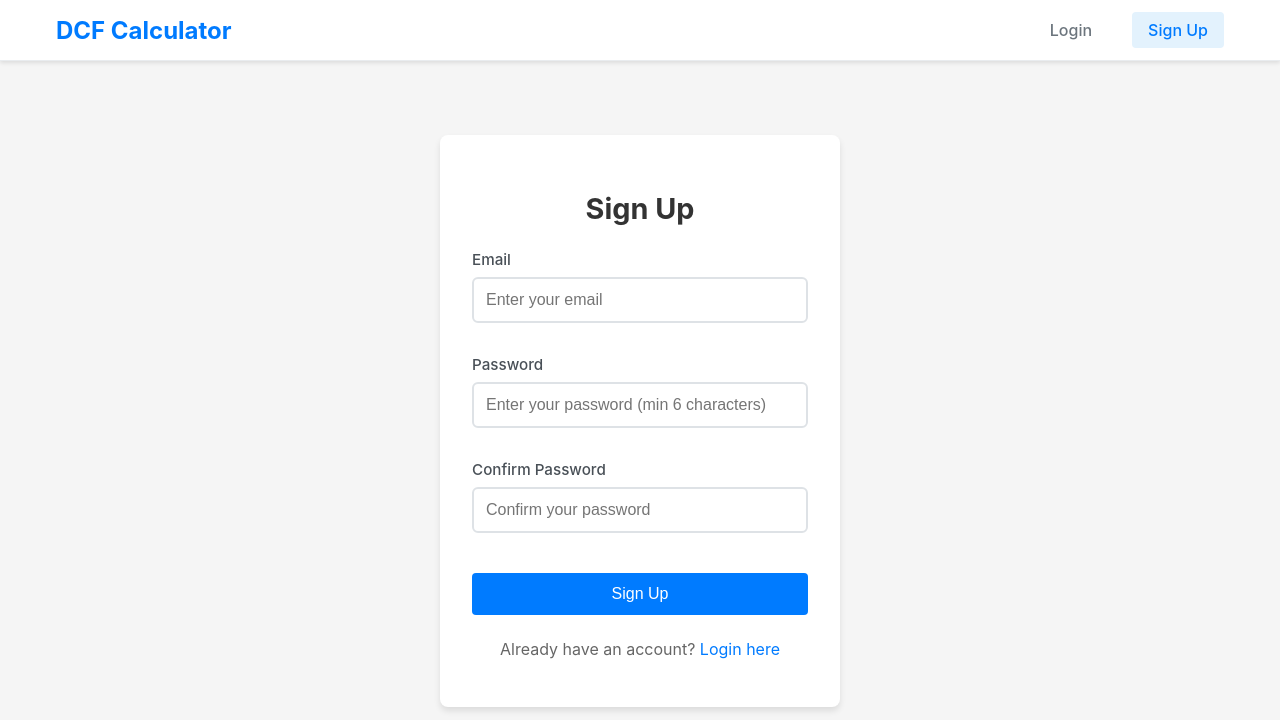
Test: Authentication Flow › User Registration › should show error when passwords do not match
Step 1. Type "test@example.com" into the field with test id "email-input" → [640, 300], box [472, 277, 808, 323]
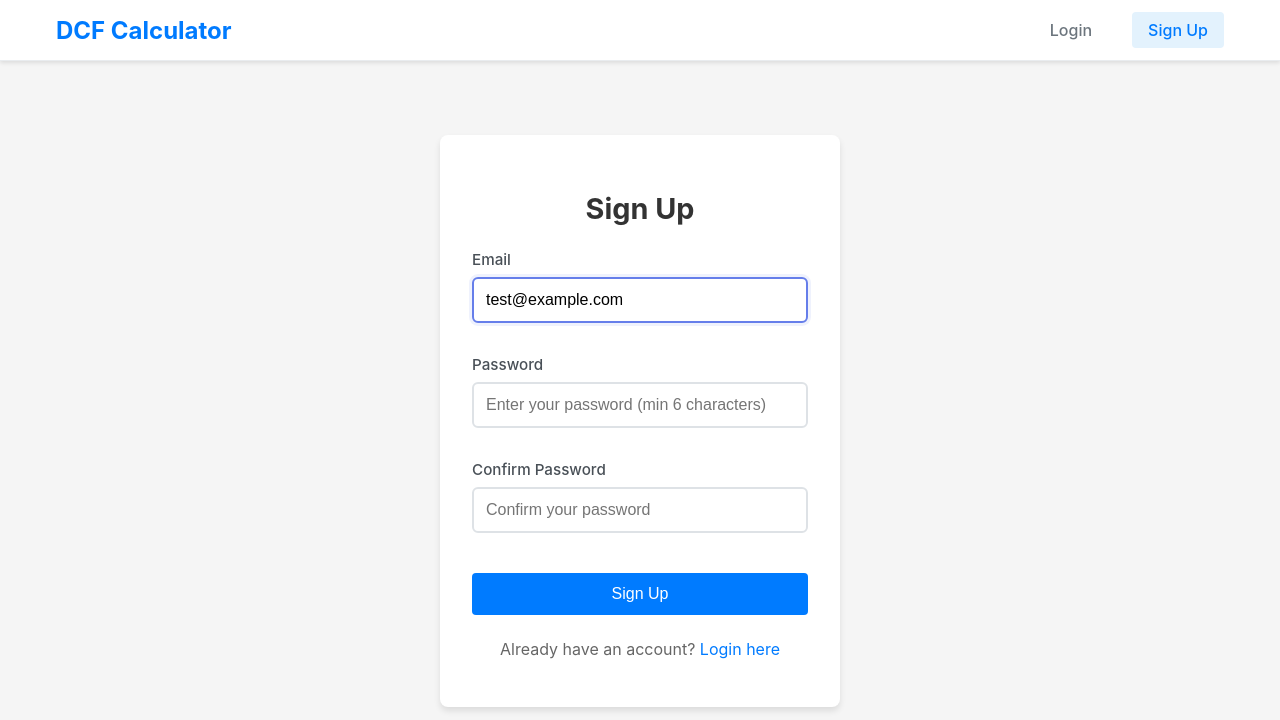
Step 2. Type "password123" into the password field with test id "password-input" → [640, 405], box [472, 382, 808, 428]
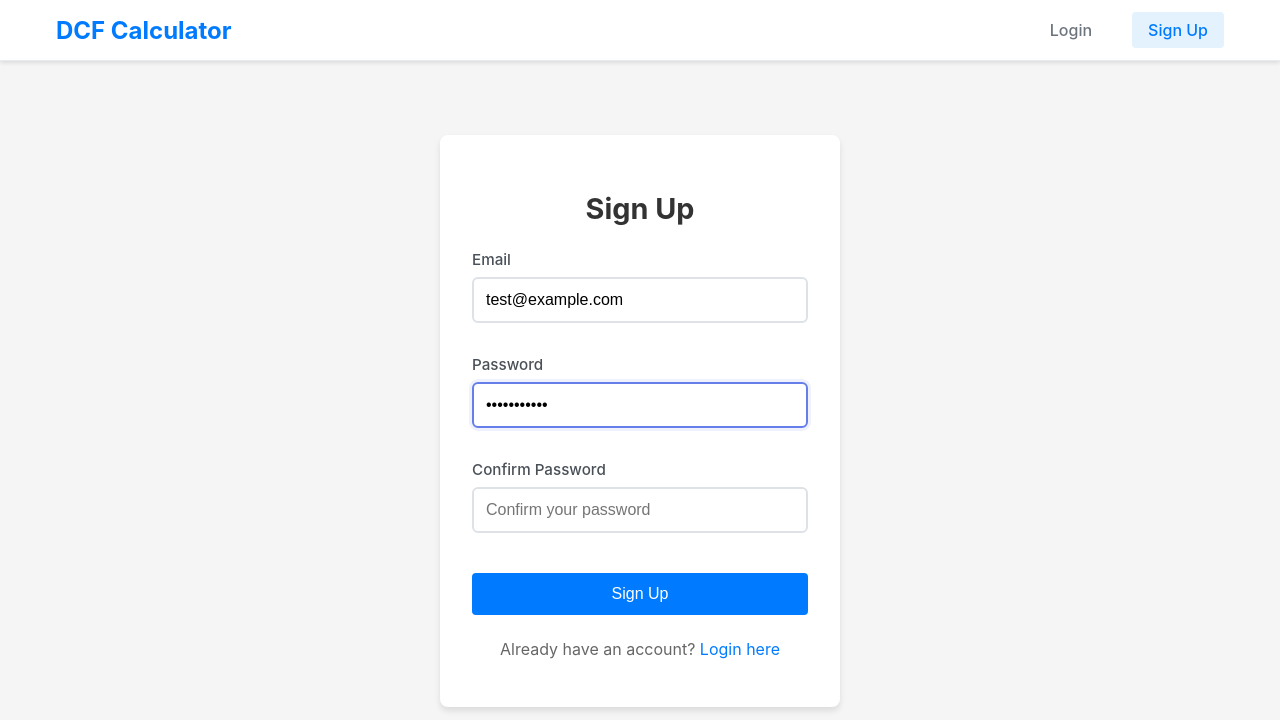
Step 3. Type "differentpassword" into the password field with test id "confirm-password-input" → [640, 510], box [472, 487, 808, 533]
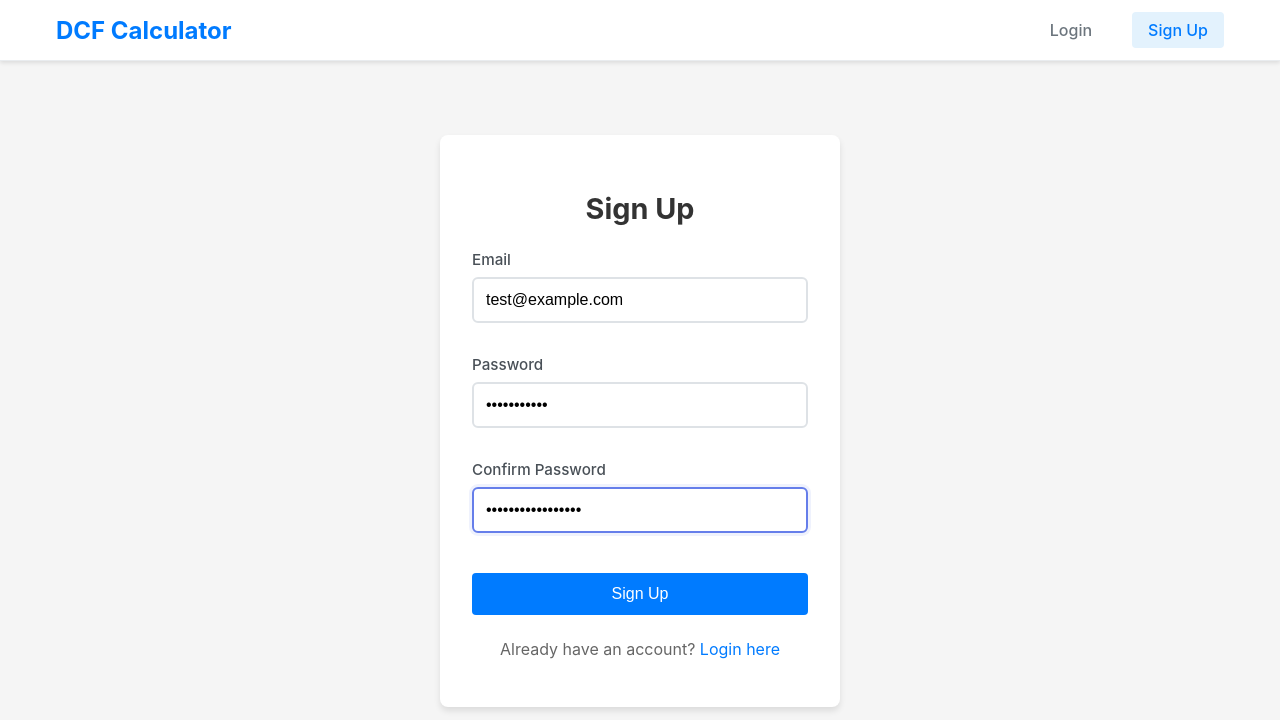
Step 4. Click the button with test id "signup-button" → [640, 594], box [472, 573, 808, 615]
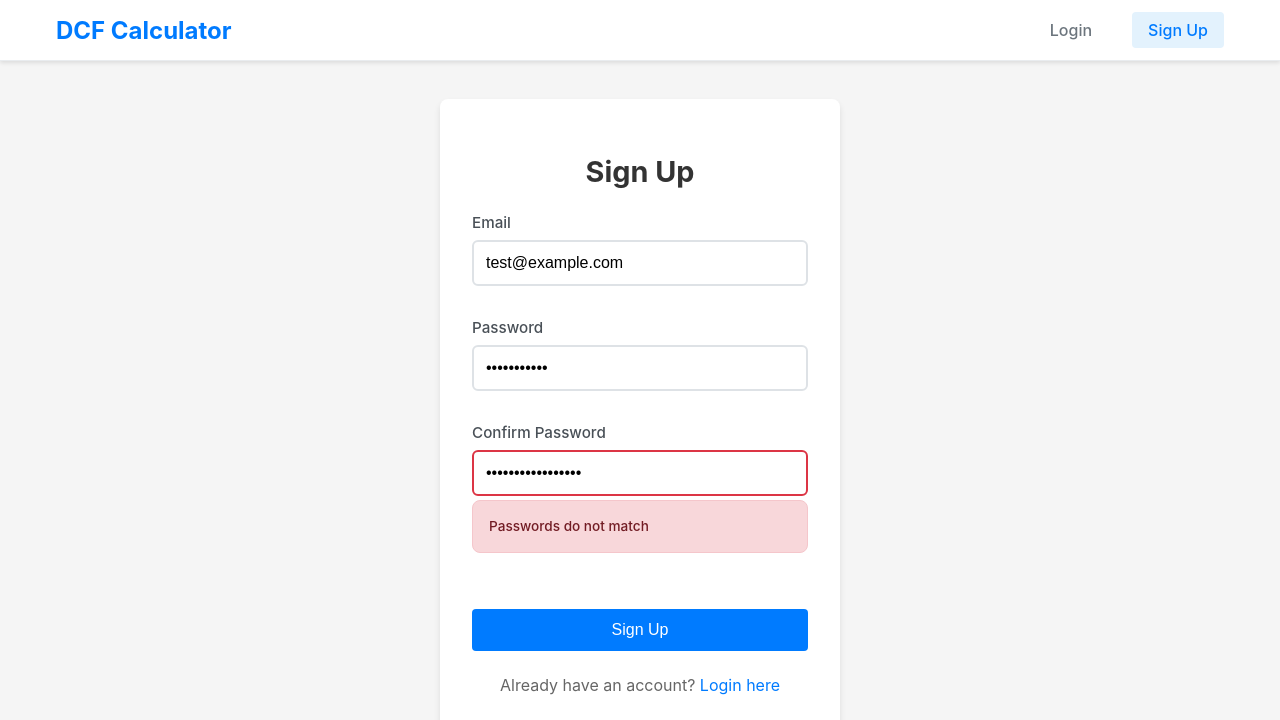
Now the text "Passwords do not match" is shown, box [472, 500, 808, 553]
